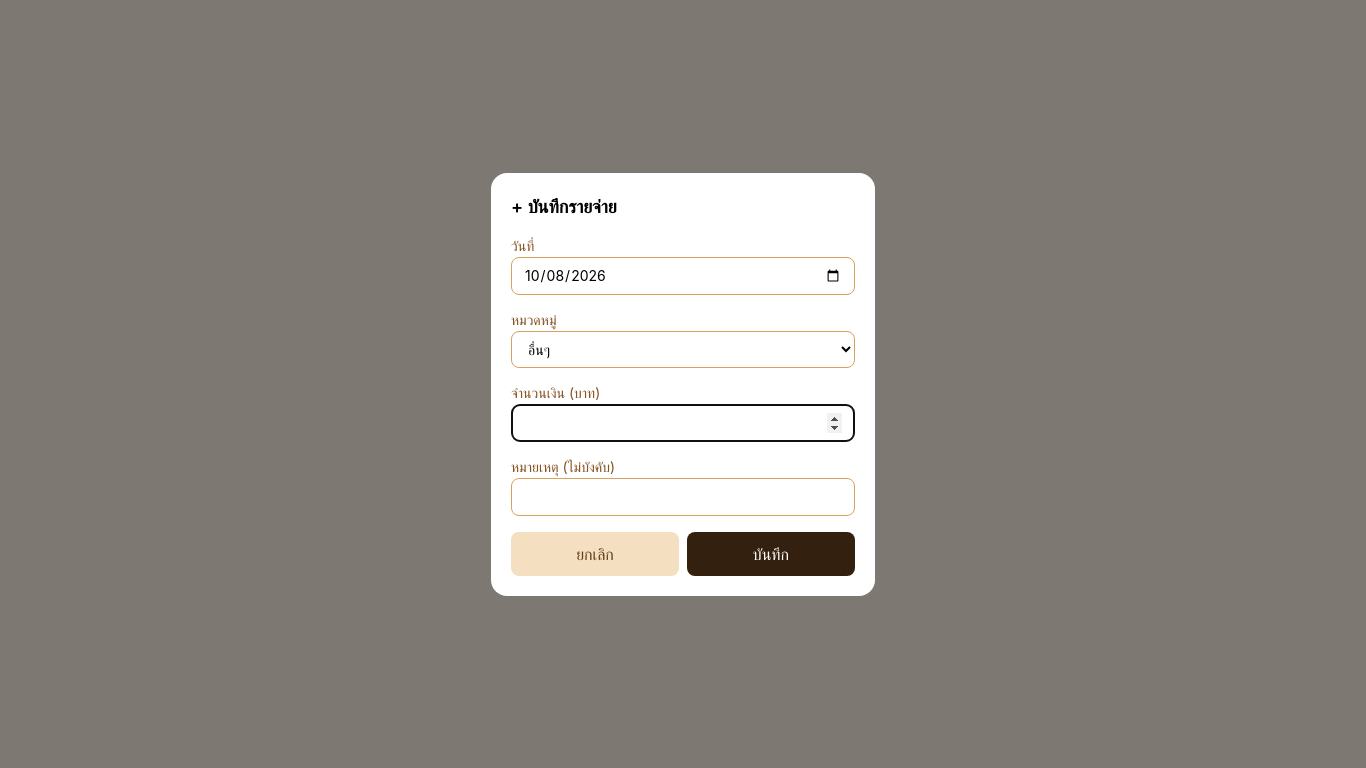
ExpenseFormModal — เพิ่มใหม่ › ไม่กรอกจำนวนเงิน กดบันทึกแล้วขึ้น error ไม่ยิง saveExpense
Click the button "บันทึก": (771, 554) [687, 532, 855, 576]
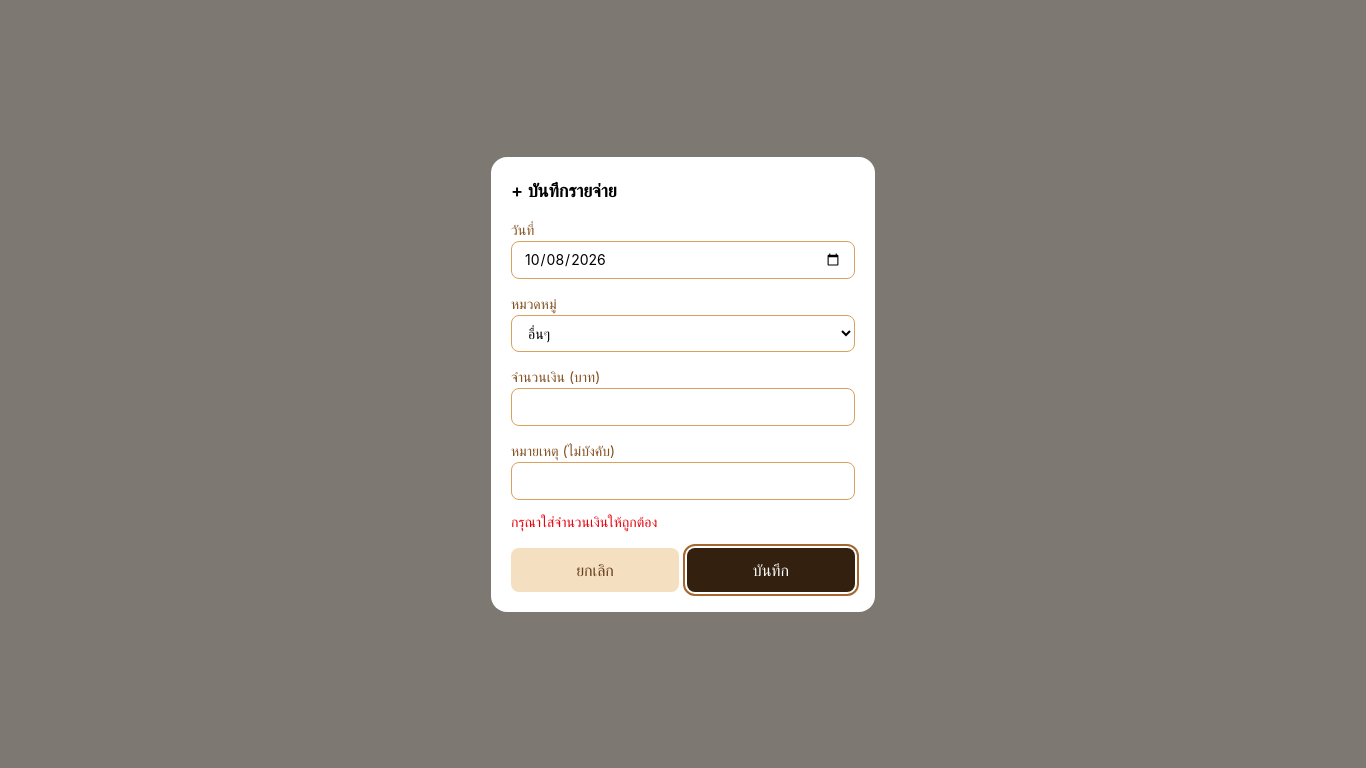
Now the text "กรุณาใส่จำนวนเงินให้ถูกต้อง" is shown, box [511, 512, 657, 530]
